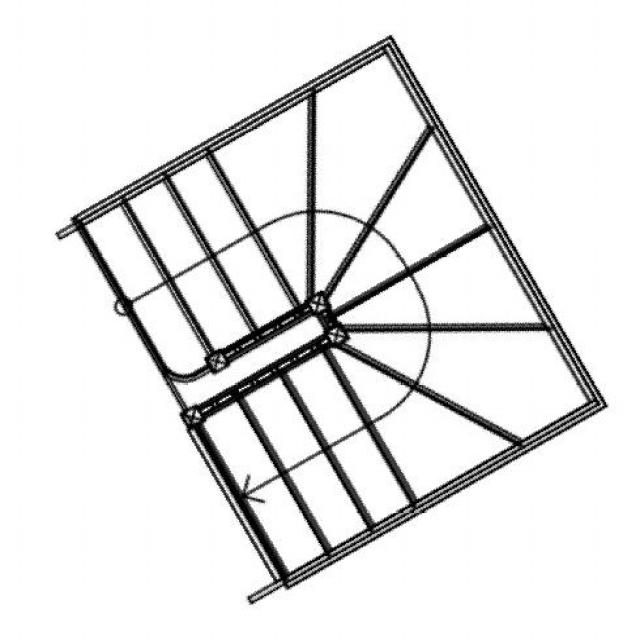stair: (55, 34, 607, 606)
